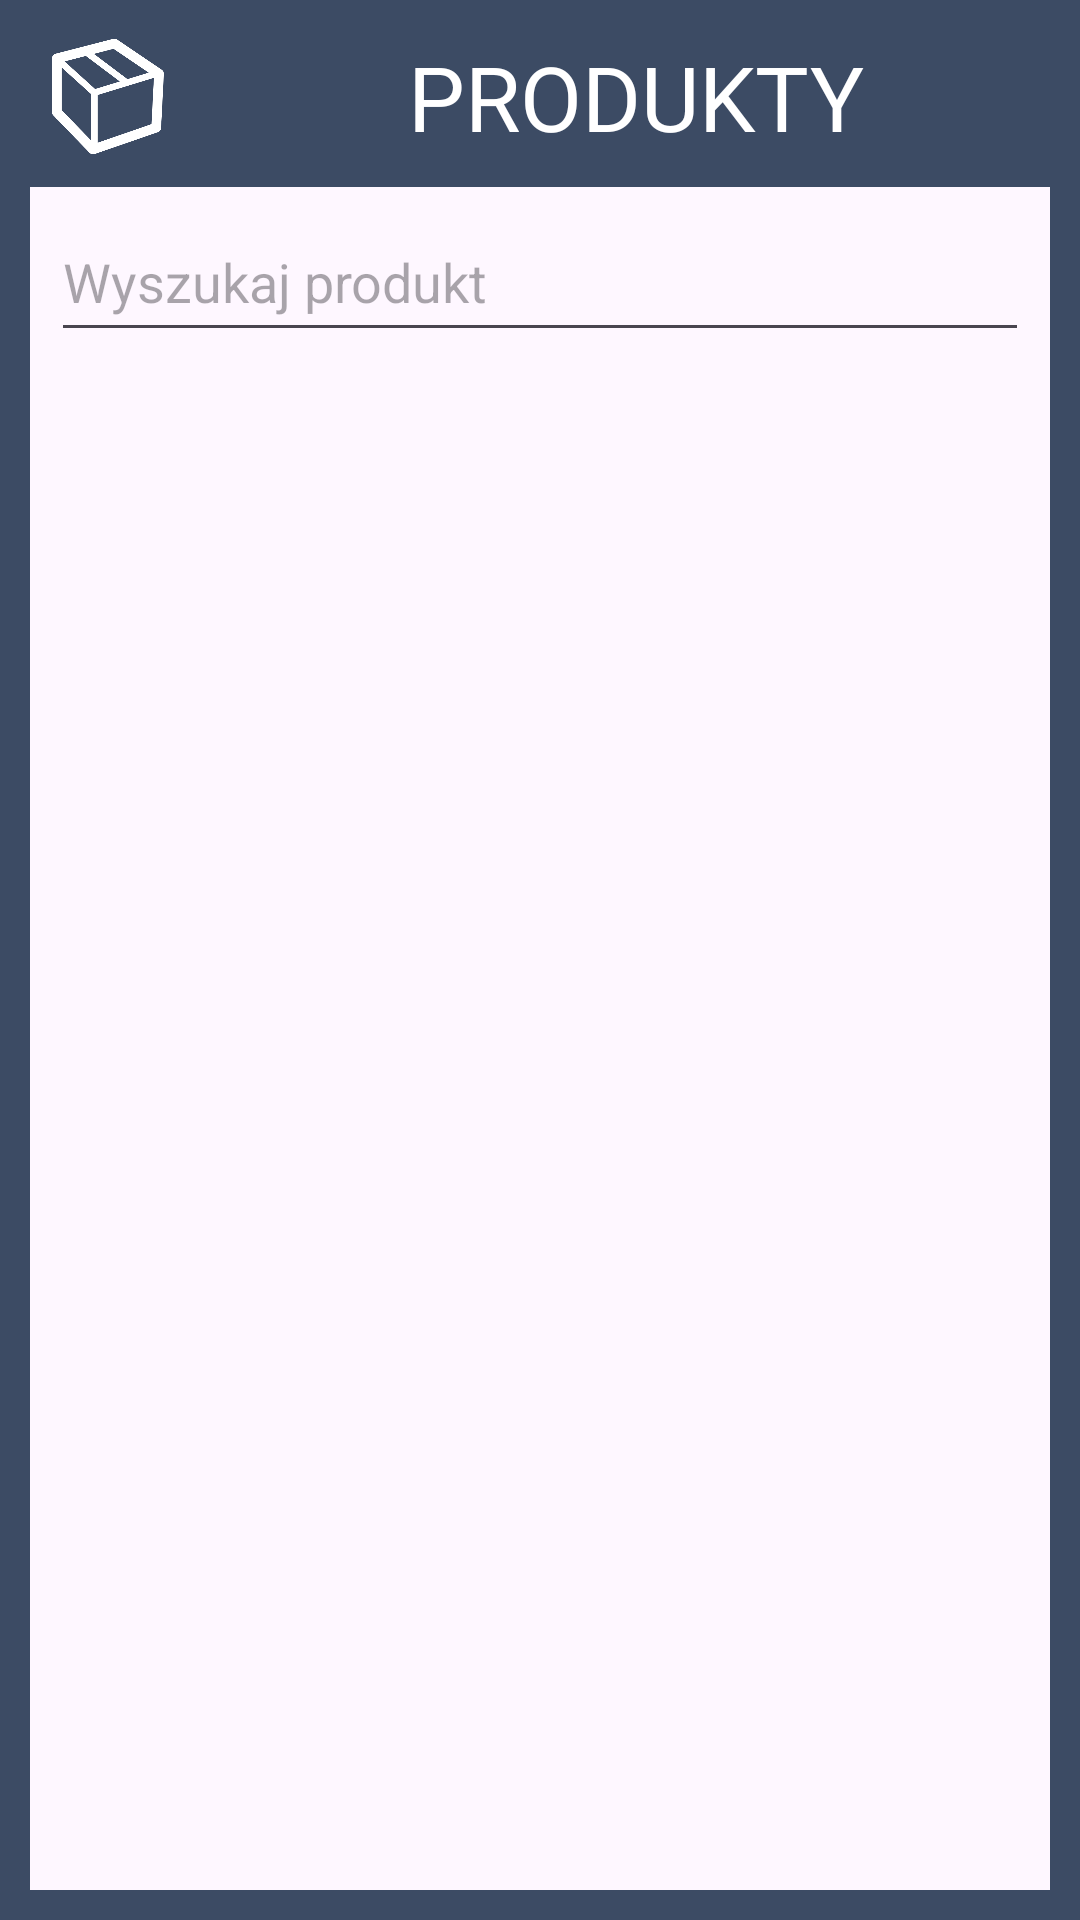

Locate icon controls on the screen. Image size 1080x1920, boxes as [x1=x1, y1=y1, x2=x2, y2=y2].
inwento: [x1=52, y1=39, x2=164, y2=154]
